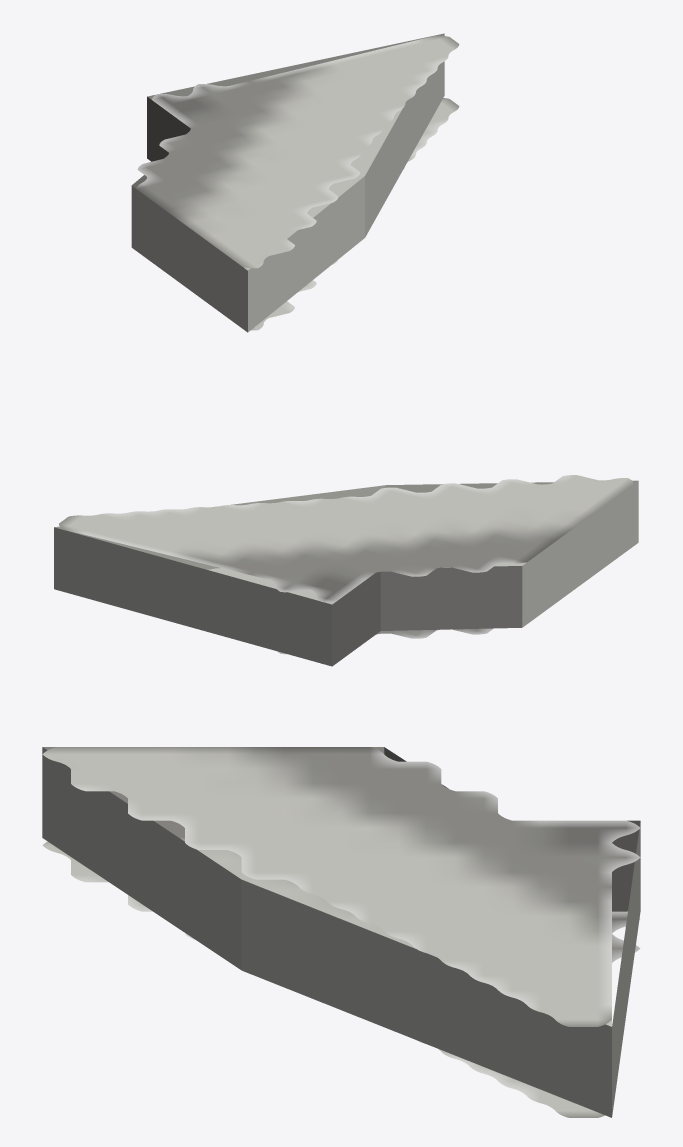
The model's file is pz_native_fixtures_railings_01_102_frame.obj.
The picture shows the model from 3 angles, top to bottom: view 1: azimuth 30°, elevation 25°; view 2: azimuth 150°, elevation 25°; view 3: azimuth 270°, elevation 25°; orthographic projection. The views are drawn at different scales.
Visible parts, largest first — view 1: pz_native_fixtures_railings_01_102_frame; view 2: pz_native_fixtures_railings_01_102_frame; view 3: pz_native_fixtures_railings_01_102_frame.
Boxes of the visible parts, box(x1,y1,x2,y2) form: pz_native_fixtures_railings_01_102_frame: box(131, 33, 459, 332); pz_native_fixtures_railings_01_102_frame: box(54, 475, 638, 666); pz_native_fixtures_railings_01_102_frame: box(42, 747, 640, 1117).
Bounding box in the file's own units: 0.3281 × 0.045 × 0.2934.
Materials: 1 (1 with a texture image).
